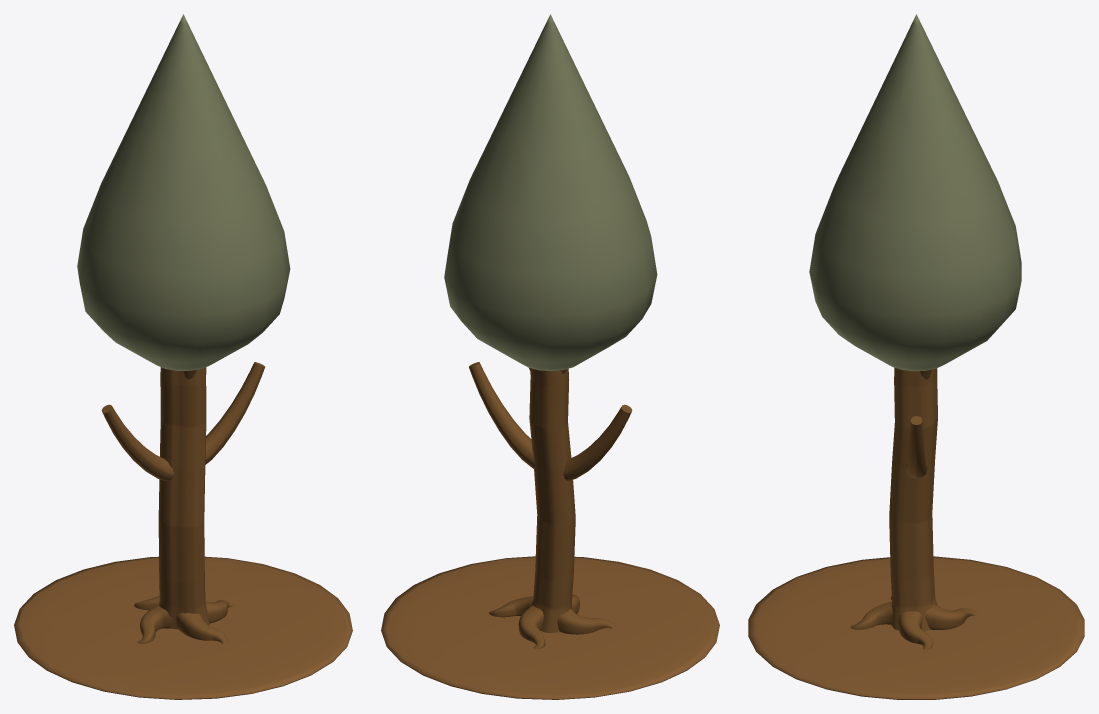
File: RoadTree_2.fbx
3 views of the same model, side by side, from view 1: azimuth 30°, elevation 25°; view 2: azimuth 150°, elevation 25°; view 3: azimuth 270°, elevation 25° (orthographic).
Visible parts, largest first — view 1: Leaves, Ground, Notched, Branches, Branches.001, Roots, Roots.001; view 2: Leaves, Ground, Notched, Branches, Branches.001, Roots.001, Roots.002, Roots.003; view 3: Leaves, Ground, Notched, Branches, Roots.002, Roots.003, Roots.
Part boxes in pixels (bbox=[...]): Leaves: bbox=[77, 14, 290, 370]; Ground: bbox=[14, 556, 352, 699]; Notched: bbox=[158, 367, 209, 629]; Branches: bbox=[205, 362, 264, 464]; Branches.001: bbox=[101, 404, 173, 481]; Roots: bbox=[176, 613, 228, 644]; Roots.001: bbox=[137, 605, 172, 643]; Leaves: bbox=[444, 14, 657, 371]; Ground: bbox=[381, 556, 719, 699]; Notched: bbox=[529, 368, 575, 633]; Branches: bbox=[469, 362, 534, 468]; Branches.001: bbox=[563, 404, 632, 480]; Roots.001: bbox=[557, 608, 616, 634]; Roots.002: bbox=[518, 605, 545, 648]; Roots.003: bbox=[489, 596, 533, 617]; Leaves: bbox=[809, 14, 1021, 371]; Ground: bbox=[748, 556, 1084, 699]; Notched: bbox=[889, 367, 937, 631]; Branches: bbox=[905, 416, 927, 478]; Roots.002: bbox=[925, 604, 978, 629]; Roots.003: bbox=[898, 611, 932, 649]; Roots: bbox=[850, 601, 892, 629].
Bounding box in the file's own units: 275 × 559 × 275.
